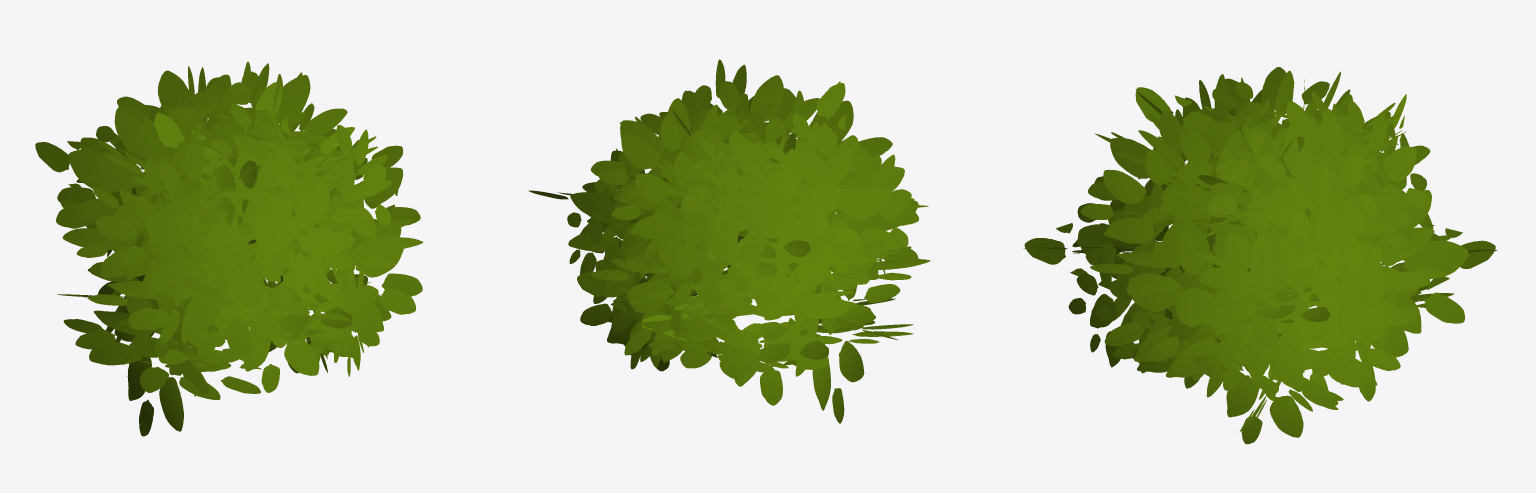
Rendered from semak-1-lod.glb.
3 renders of one model, left to right at view 1: azimuth 30°, elevation 25°; view 2: azimuth 150°, elevation 25°; view 3: azimuth 270°, elevation 25°, orthographic. The views are drawn at different scales.
Visible parts, largest first — view 1: Bush_Common_Flowers; view 2: Bush_Common_Flowers; view 3: Bush_Common_Flowers.
Part boxes in pixels (left/top/right/bottom): Bush_Common_Flowers: left=35, top=61, right=423, bottom=436; Bush_Common_Flowers: left=528, top=59, right=930, bottom=423; Bush_Common_Flowers: left=1023, top=67, right=1496, bottom=444.
Bounding box in the file's own units: 1.67 × 1.57 × 1.71.
1 material, 1 textured.
